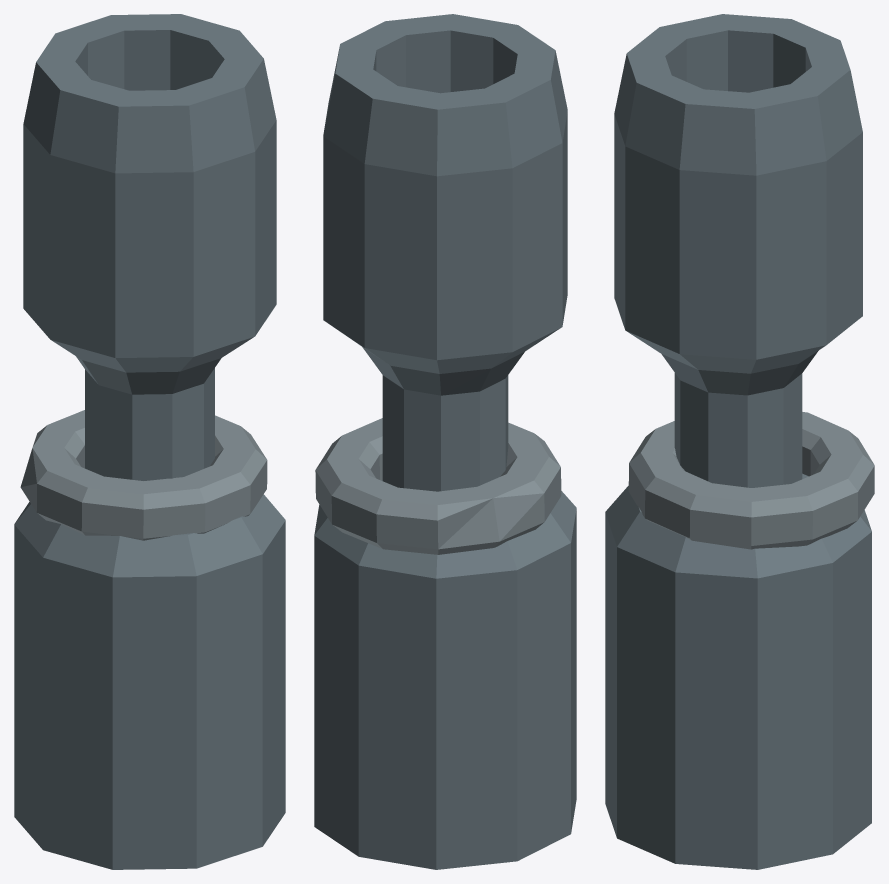
Rendered from dunbell.glb.
3 renders of one model, left to right at view 1: azimuth 30°, elevation 25°; view 2: azimuth 150°, elevation 25°; view 3: azimuth 270°, elevation 25°, orthographic.
Parts seen in each view (by area): view 1: dunbell; view 2: dunbell; view 3: dunbell.
Part boxes in pixels (<box>): dunbell: <box>14,14,285,869</box>; dunbell: <box>314,14,576,869</box>; dunbell: <box>605,14,874,869</box>.
Size of the model in its own units: 0.0873 by 0.27 by 0.0877.
